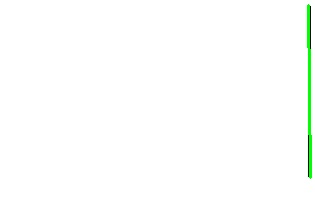line_segment: (307, 5, 312, 178)
